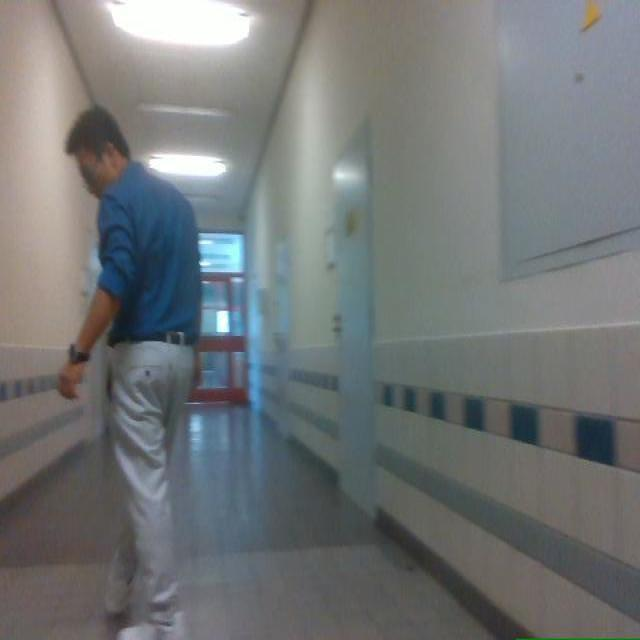humans: (59, 107, 201, 639)
